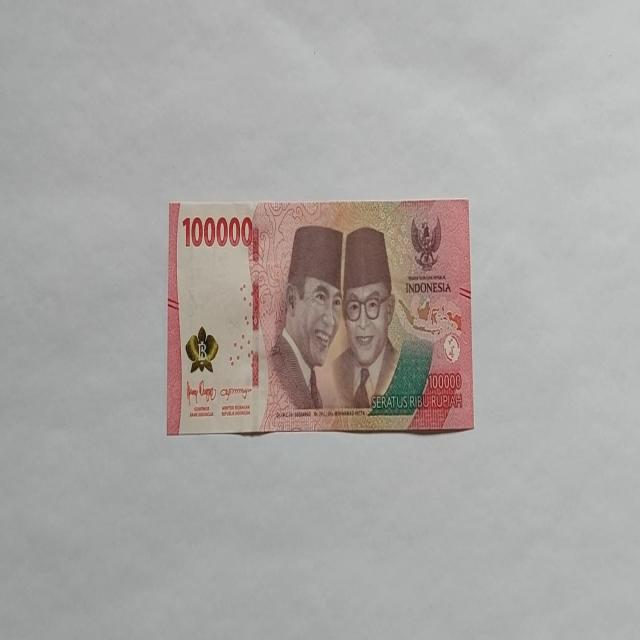seratus ribu rupiah: (166, 198, 474, 436)
